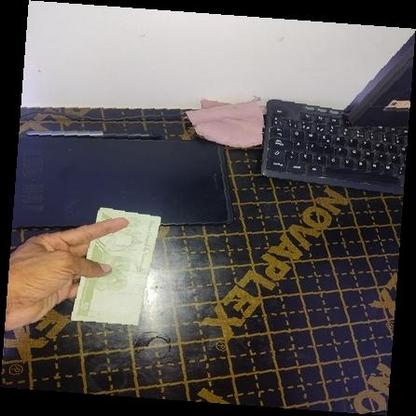fifty-back-vef: (70, 206, 162, 326)
